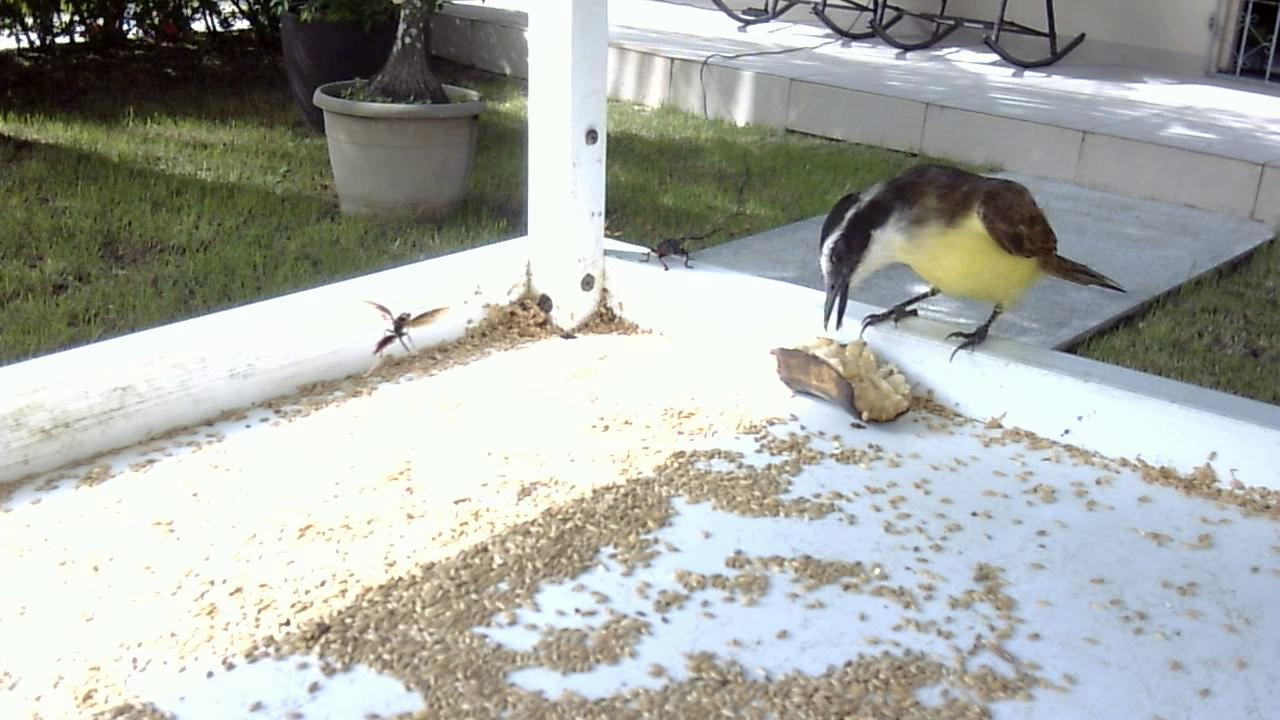bem_te_vi: (802, 143, 1134, 389)
